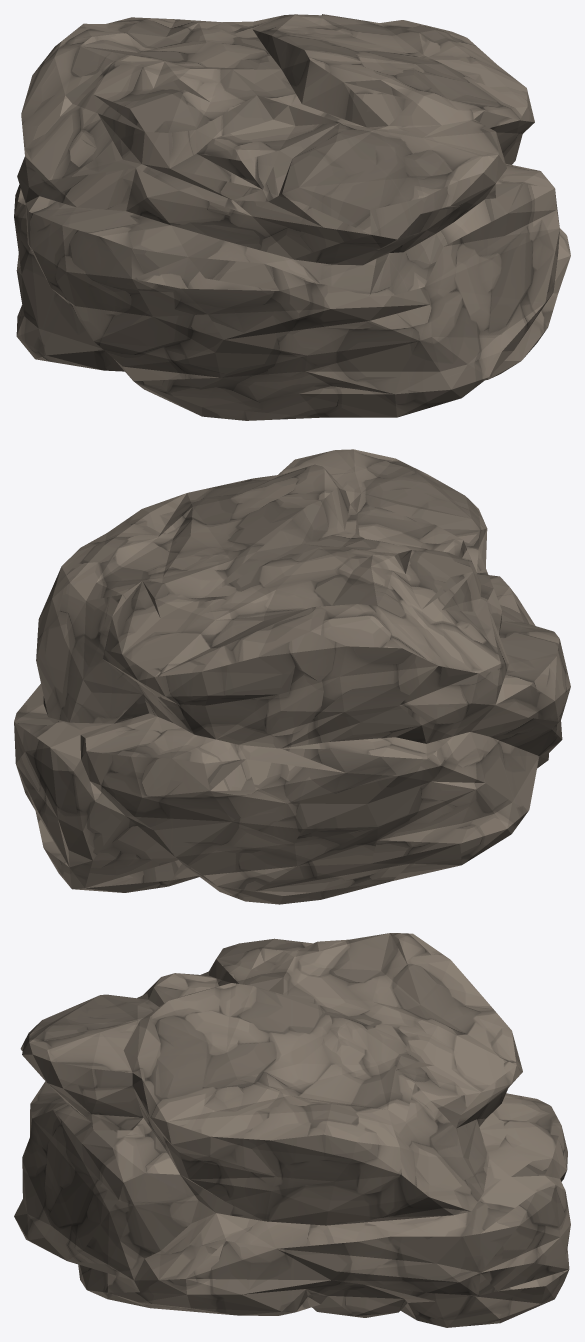
3 renders of one model, top to bottom at view 1: azimuth 30°, elevation 25°; view 2: azimuth 150°, elevation 25°; view 3: azimuth 270°, elevation 25°, orthographic. The views are drawn at different scales.
Parts seen in each view (by area): view 1: SM_Rock_Cluster_Large_04; view 2: SM_Rock_Cluster_Large_04; view 3: SM_Rock_Cluster_Large_04.
Part boxes in pixels (x1,y1,x2,y2): SM_Rock_Cluster_Large_04: (14, 14, 570, 420); SM_Rock_Cluster_Large_04: (14, 449, 570, 904); SM_Rock_Cluster_Large_04: (14, 933, 570, 1327).
Bounding box in the file's own units: 15.59 × 9.8 × 16.72.
1 material, 1 textured.
